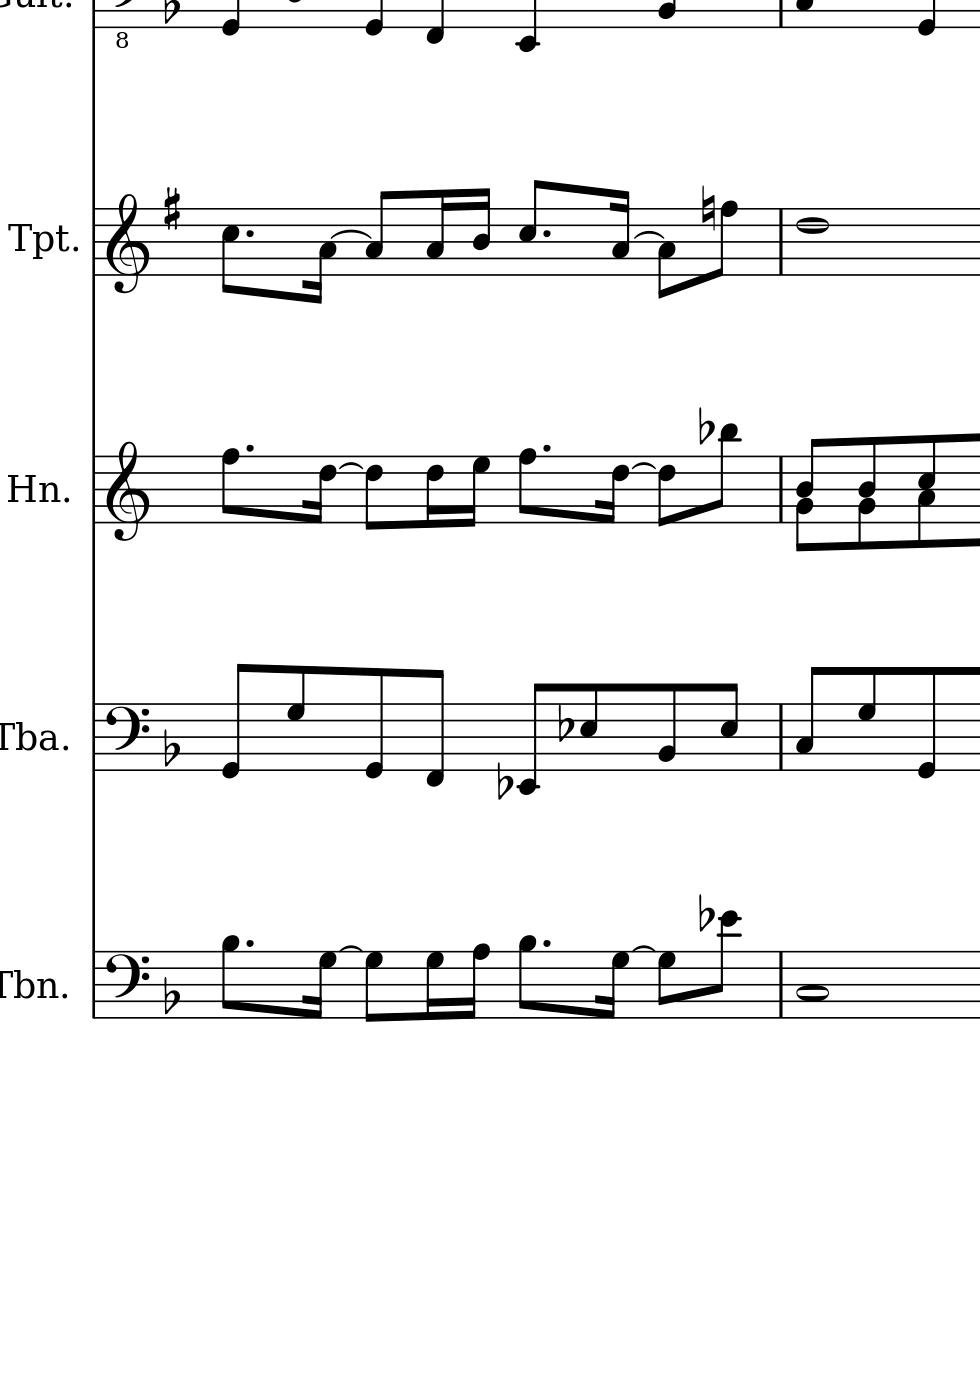16_3: (302, 206, 336, 305), (423, 188, 453, 277), (607, 189, 631, 277)
16_4: (471, 186, 492, 278)
16_6: (303, 453, 337, 526), (598, 453, 629, 526), (424, 453, 445, 531)
16_7: (303, 949, 337, 1022), (596, 949, 629, 1022), (462, 452, 490, 531), (423, 948, 444, 1024)
16_8: (462, 942, 490, 1020)
1_3: (797, 948, 829, 1021)
1_6: (795, 207, 828, 279)
8_-1: (422, 667, 448, 788)
8_-2: (514, 681, 548, 796)
8_0: (217, 661, 252, 780), (360, 665, 387, 782), (913, 665, 939, 783)
8_11: (707, 423, 740, 527)
8_12: (706, 909, 739, 1020)
8_2: (655, 681, 681, 773)
8_2_4: (795, 439, 824, 552), (856, 436, 878, 552)
8_3: (794, 665, 824, 774), (364, 189, 393, 277), (657, 207, 677, 301)
8_3_5: (917, 434, 939, 549)
8_5: (517, 177, 546, 278), (717, 682, 740, 773), (218, 205, 241, 296), (578, 682, 600, 773)
8_6: (362, 453, 385, 533), (654, 454, 676, 529)
8_7: (284, 665, 308, 774), (856, 667, 878, 773), (362, 949, 384, 1025), (655, 949, 677, 1021)
8_8: (710, 199, 739, 281), (218, 448, 240, 525), (515, 448, 537, 525)
8_9: (218, 933, 241, 1020), (515, 933, 537, 1020)
Fclef: (103, 701, 150, 774), (103, 949, 148, 1021)
Flat: (554, 702, 575, 744), (493, 760, 513, 803), (161, 976, 181, 1016), (694, 892, 713, 934), (160, 727, 180, 767), (695, 404, 713, 448)
Gclef: (104, 436, 150, 544), (104, 191, 150, 295)
Hn: (5, 468, 62, 508)
Natural: (699, 185, 716, 233)
Sharp: (159, 183, 183, 234)
Single_barline: (86, 951, 105, 1019), (772, 703, 790, 771), (771, 951, 789, 1018), (87, 208, 104, 276), (87, 704, 104, 772), (772, 456, 789, 523), (87, 455, 103, 524), (773, 208, 788, 276)
Slur: (330, 230, 370, 241), (633, 230, 664, 241), (337, 462, 365, 472), (630, 462, 657, 472), (630, 945, 657, 954), (337, 945, 364, 953)
Tba: (1, 718, 60, 755)
Tbn: (1, 964, 58, 1002)
Tpt: (6, 216, 70, 259)
dot: (242, 226, 256, 241), (539, 936, 552, 951), (539, 441, 552, 455), (242, 442, 256, 455), (242, 937, 255, 951), (540, 227, 553, 240)
